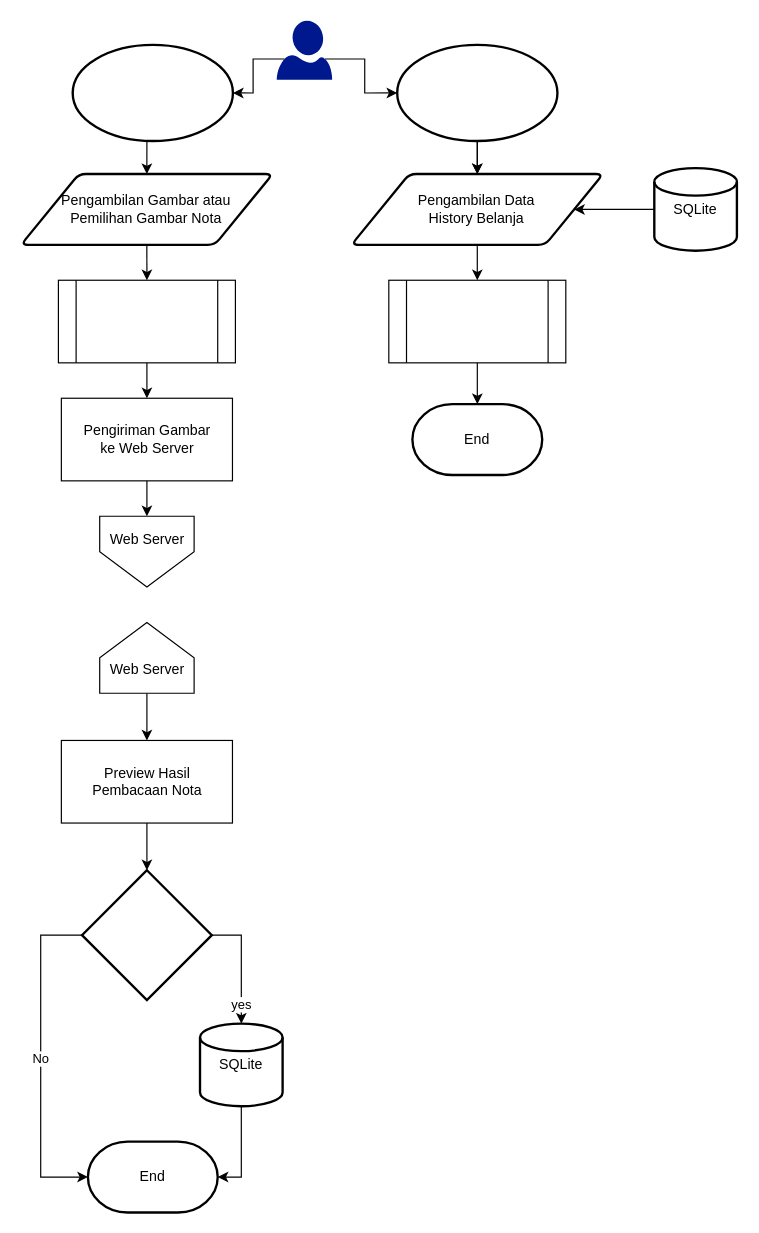
Some shapes in this 759 by 1233 pixel diagram are drawn without their labels. Each missing label, with the centre of its shape:
"History Pembacaan Nota" belongs at point 476,92.
"Menampilkan Data History" belongs at point 477,321.
"Pembacaan Nota" belongs at point 152,92.
"Pre-Processing Gambar" belongs at point 146,321.
"Simpan Gambar" belongs at point 146,934.
